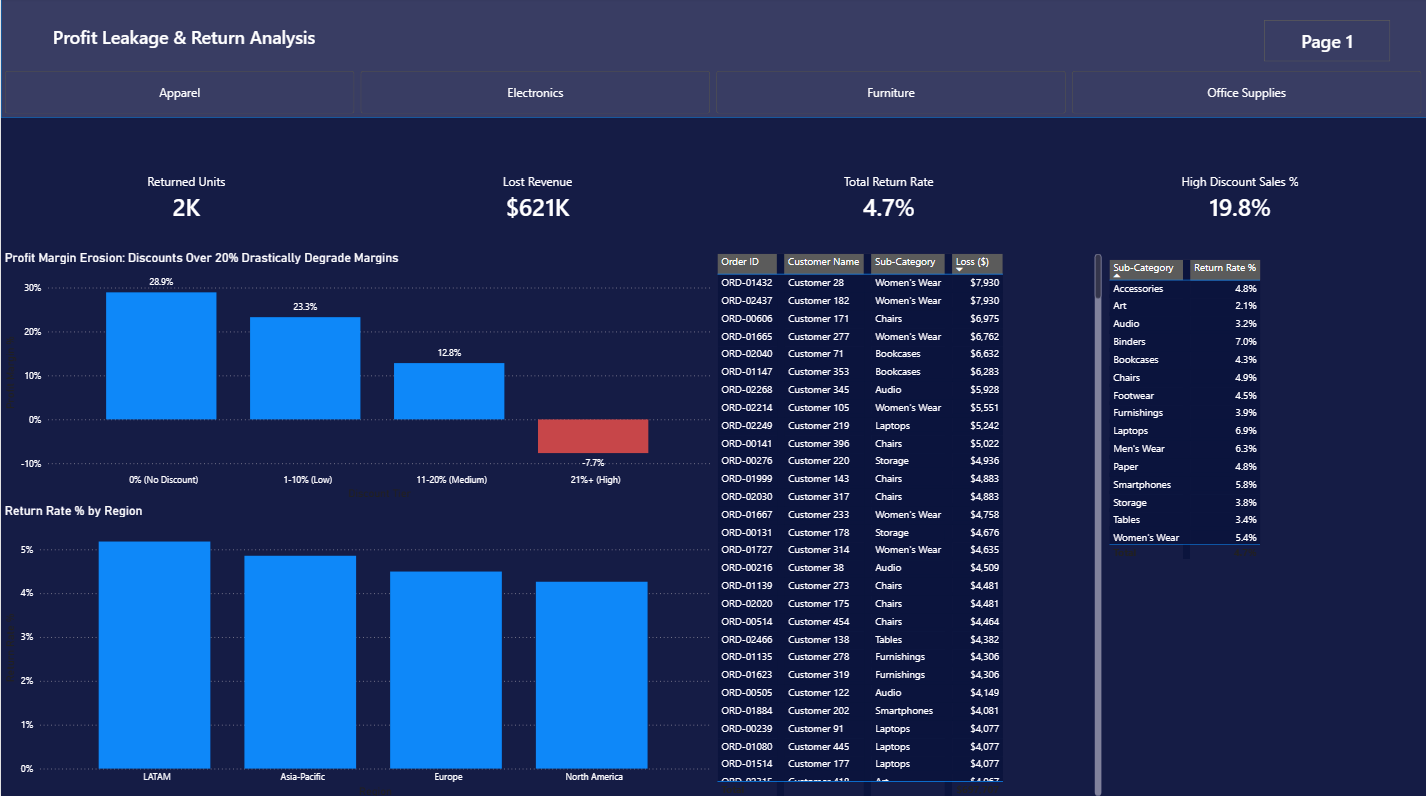

This screenshot's page, from the dashboard's own definition file:
{"tool":"powerbi","page":{"name":" Page 2","canvas":[1920,1080],"ordinal":1},"visuals":[{"type":"shape","box":[0,0,1920,163],"z":0},{"type":"clusteredColumnChart","title":"Profit Margin Erosion: Discounts Over 20% Drastically Degrade Margins","fields":{"Category":["fact_order_details.Discount Tier"],"Y":["_Measures.Profit Margin %"]},"box":[0,340.4,960.8,340.4],"z":1000},{"type":"cardVisual","fields":{"Data":["_Measures.Returned Units","_Measures.Lost Revenue","_Measures.Return Rate %","_Measures.High Discount Sales %"]},"box":[0,197.4,1920,143.1],"z":2000},{"type":"clusteredColumnChart","fields":{"Category":["dim_customers.Region"],"Y":["_Measures.Return Rate %"]},"box":[0,680.7,960.8,400.7],"z":3000},{"type":"pageNavigator","box":[1700.8,30.8,170.3,56.2],"z":4000},{"type":"tableEx","fields":{"Values":["dim_products.SubCategory","_Measures.Return Rate %"]},"box":[1486.8,348.1,433.2,422.4],"z":5000},{"type":"textbox","box":[65.2,32.6,452,54],"z":6000},{"type":"advancedSlicerVisual","fields":{"Values":["dim_products.Category"]},"box":[0,94.2,1920,68.8],"z":8000},{"type":"tableEx","fields":{"Values":["fact_orders.OrderID","dim_customers.CustomerName","dim_products.SubCategory","_Measures.Lost Revenue"]},"box":[959.2,340.4,527.6,739.5],"z":9000}]}

Visuals, with their boxes in screenshot pixels (x1, y1, x2, y2), scaled from the page's 1920x1080 canvas onto the 1426x796 screenshot:
shape: left=0, top=0, right=1425, bottom=120
"Profit Margin Erosion: Discounts Over 20% Drastically Degrade Margins" clusteredColumnChart: left=0, top=251, right=714, bottom=502
cardVisual - _Measures.Returned Units x _Measures.Lost Revenue: left=0, top=145, right=1425, bottom=251
clusteredColumnChart - dim_customers.Region x _Measures.Return Rate %: left=0, top=502, right=714, bottom=795
pageNavigator: left=1263, top=23, right=1390, bottom=64
tableEx - dim_products.SubCategory x _Measures.Return Rate %: left=1104, top=257, right=1425, bottom=568
textbox: left=48, top=24, right=384, bottom=64
advancedSlicerVisual - dim_products.Category: left=0, top=69, right=1425, bottom=120
tableEx - fact_orders.OrderID x dim_customers.CustomerName: left=712, top=251, right=1104, bottom=795
